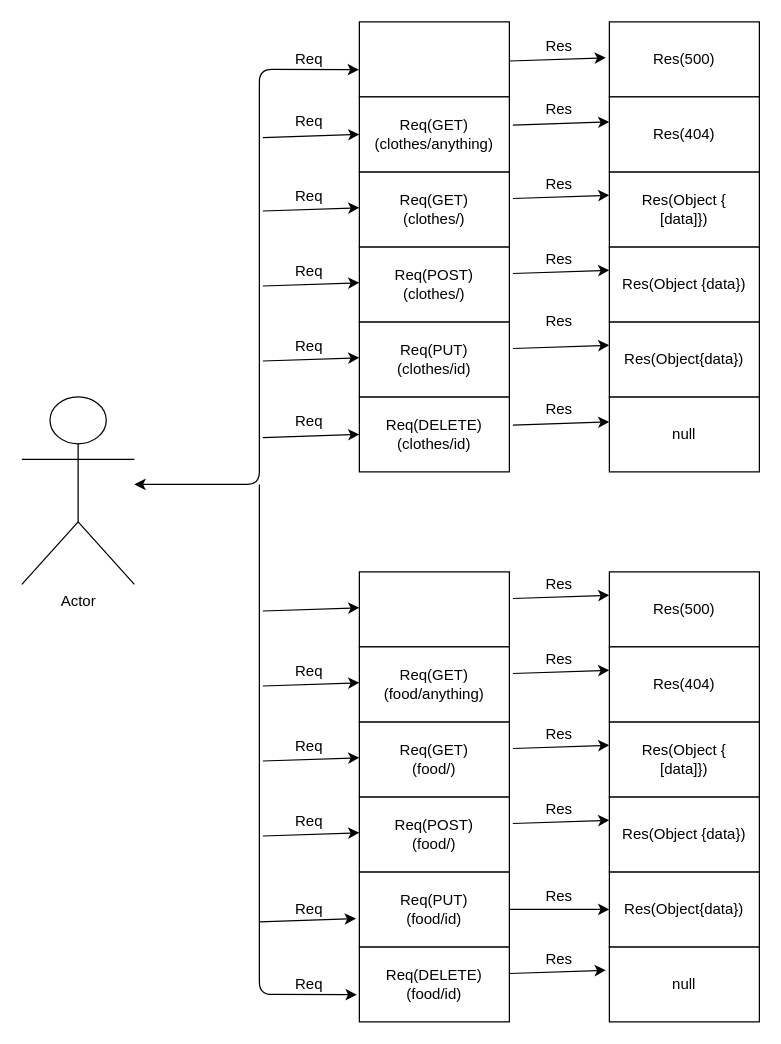
Some shapes in this 781 by 1044 pixel diagram are drawn without their labels. The shapes that lost their labels are listed below. From the top down, each one's centre as x and y in pixels, then its label:
At point (433, 59): "Req(POST) (clothes/anything)".
At point (433, 609): "Req(POST) (food/anything)".
